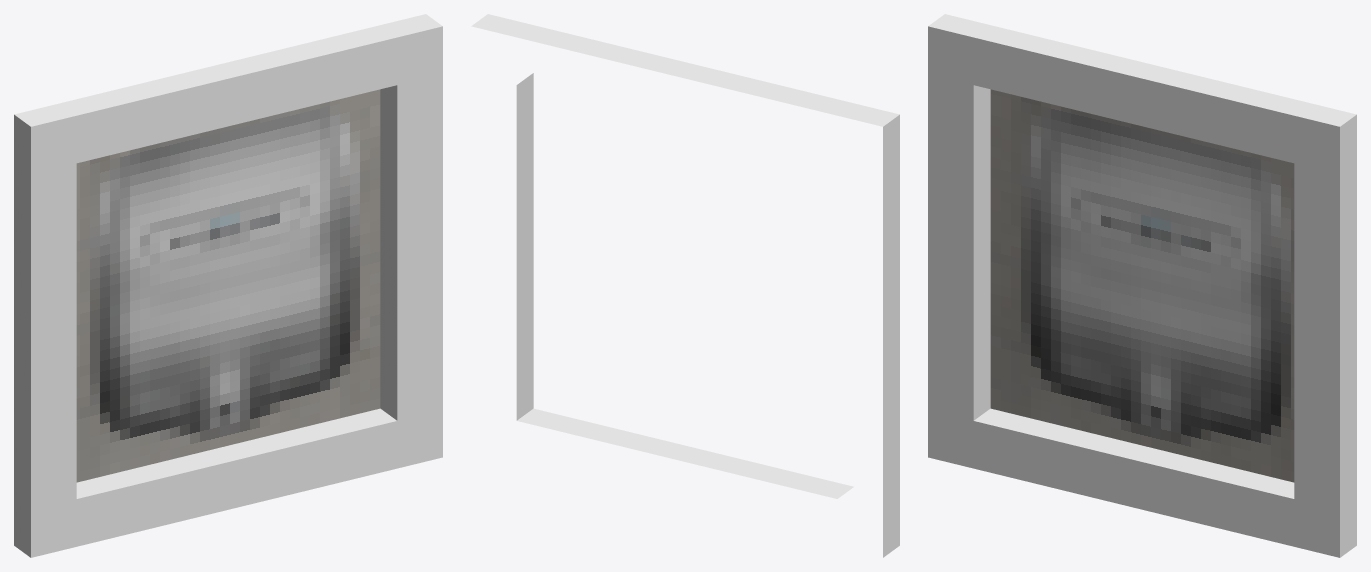
The model's file is Room18HandDryer.glb.
3 renders of one model, left to right at view 1: azimuth 30°, elevation 25°; view 2: azimuth 150°, elevation 25°; view 3: azimuth 330°, elevation 25°, orthographic.
Parts seen in each view (by area): view 1: Canvas, Frame.003; view 2: Frame.003; view 3: Canvas, Frame.003.
Boxes of the visible parts, x1,y1,x2,y2 form: Canvas: (76, 89, 380, 482); Frame.003: (14, 14, 442, 557); Frame.003: (471, 14, 899, 557); Canvas: (990, 89, 1294, 482); Frame.003: (928, 14, 1356, 557).
Size of the model in its own units: 1.28 by 1.28 by 0.0912.
Materials: 2 (1 with a texture image).
